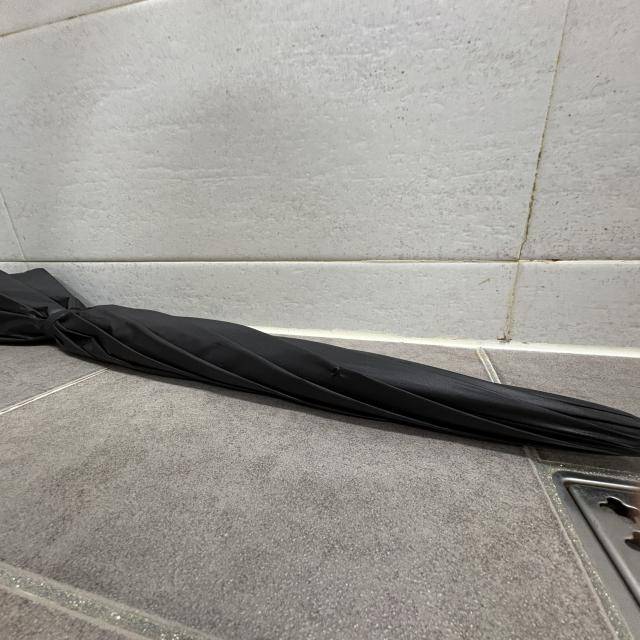umbrella: (0, 265, 640, 463)
